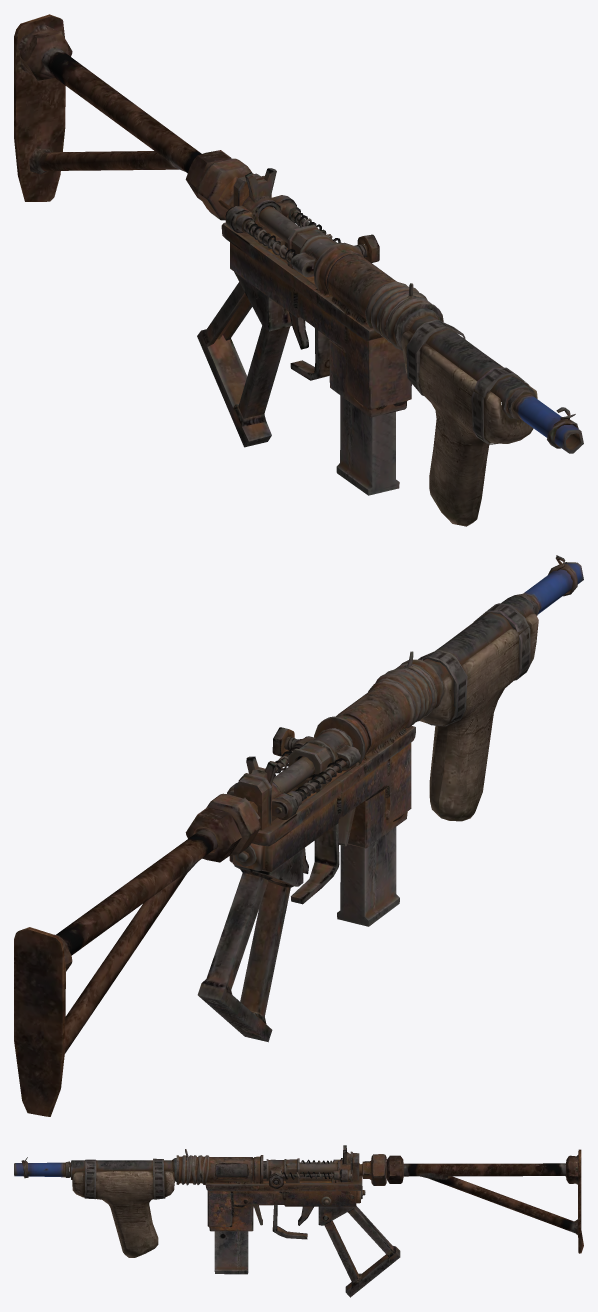
File: t1_smg.worldmodel.glb
3 renders of one model, top to bottom at view 1: azimuth 30°, elevation 25°; view 2: azimuth 150°, elevation 25°; view 3: azimuth 270°, elevation 25°, orthographic. The views are drawn at different scales.
Parts seen in each view (by area): view 1: mSMG_LOD0; view 2: mSMG_LOD0; view 3: mSMG_LOD0.
Boxes of the visible parts, x1,y1,x2,y2 form: mSMG_LOD0: (14,14,583,526); mSMG_LOD0: (14,555,583,1116); mSMG_LOD0: (14,1145,583,1297).
Size of the model in its own units: 0.0649 by 0.2082 by 0.7334.
2 materials, 2 textured.
